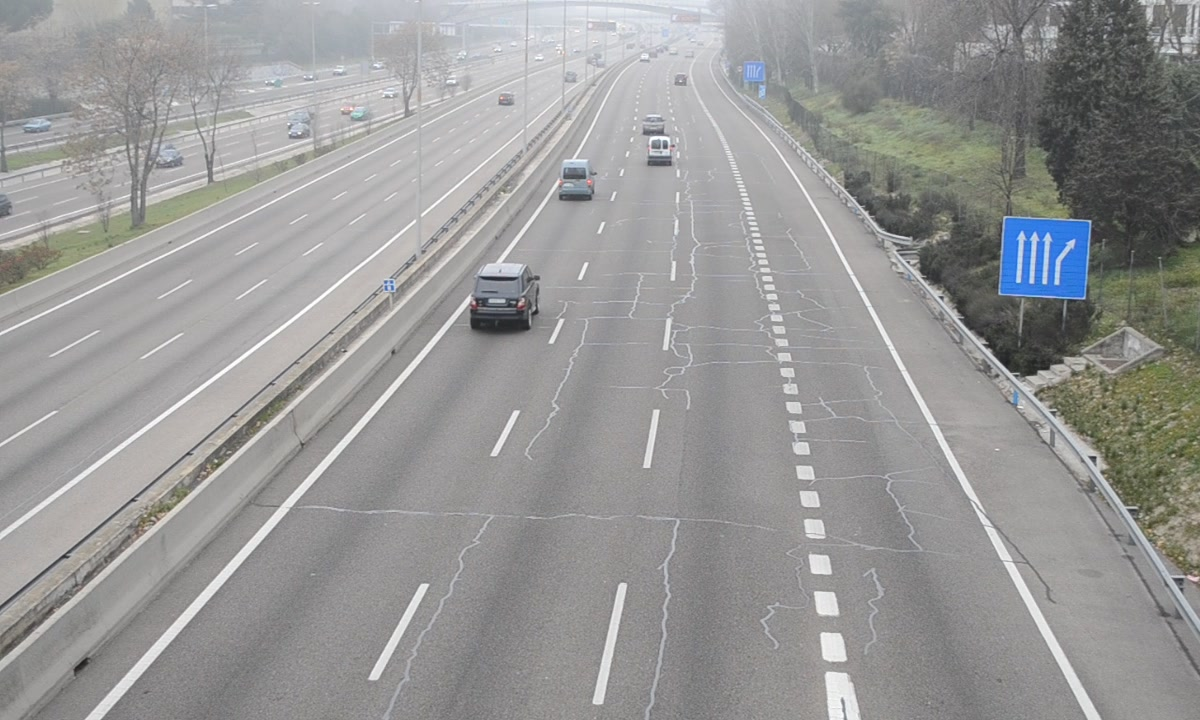car: (470, 262, 538, 324)
van: (558, 158, 595, 198), (646, 133, 673, 168)
